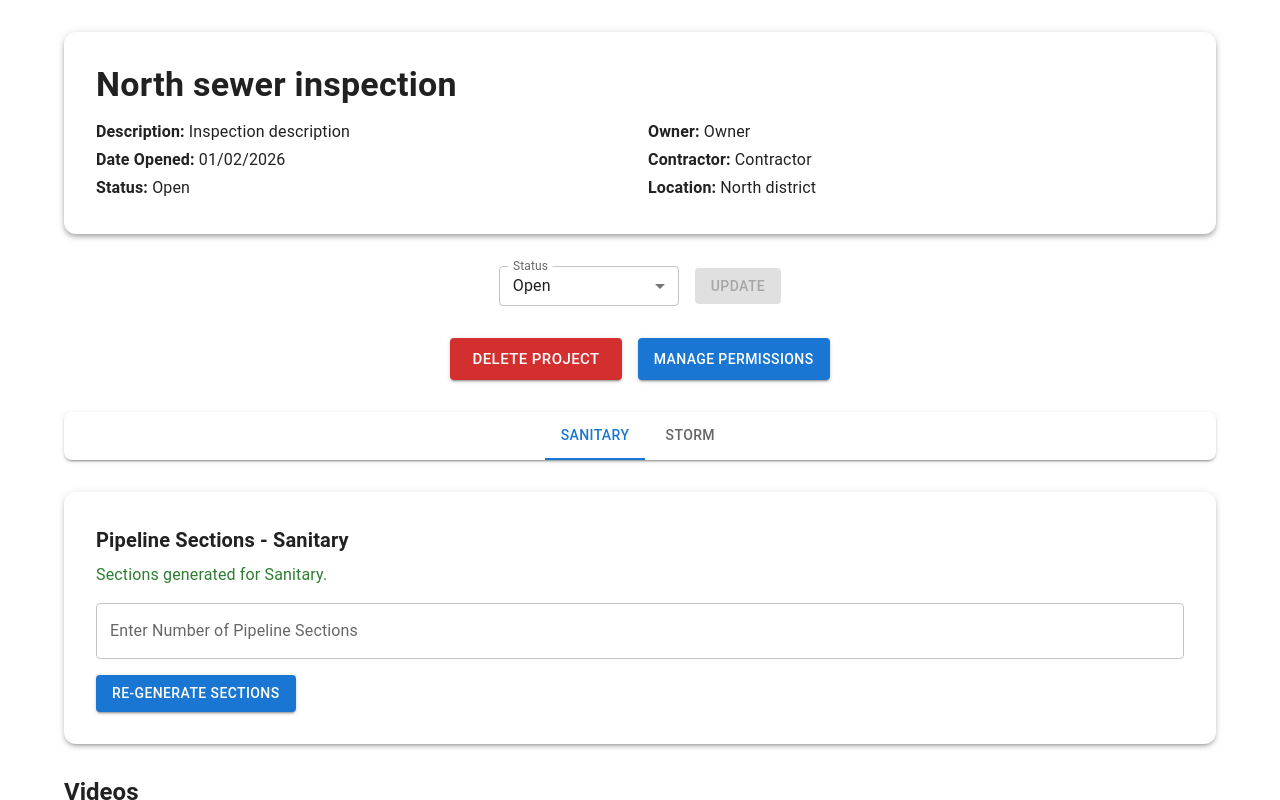
Test: toggles existing permissions and removes the selected member without adding a grant UI
Check: the heading "North sewer inspection" is shown, box x1=96 y1=64 x2=457 y2=104
Check: the button "Delete Project" is enabled, box x1=450 y1=338 x2=622 y2=380
Click the button "Manage Permissions" at (734, 359), box x1=638 y1=338 x2=830 y2=380
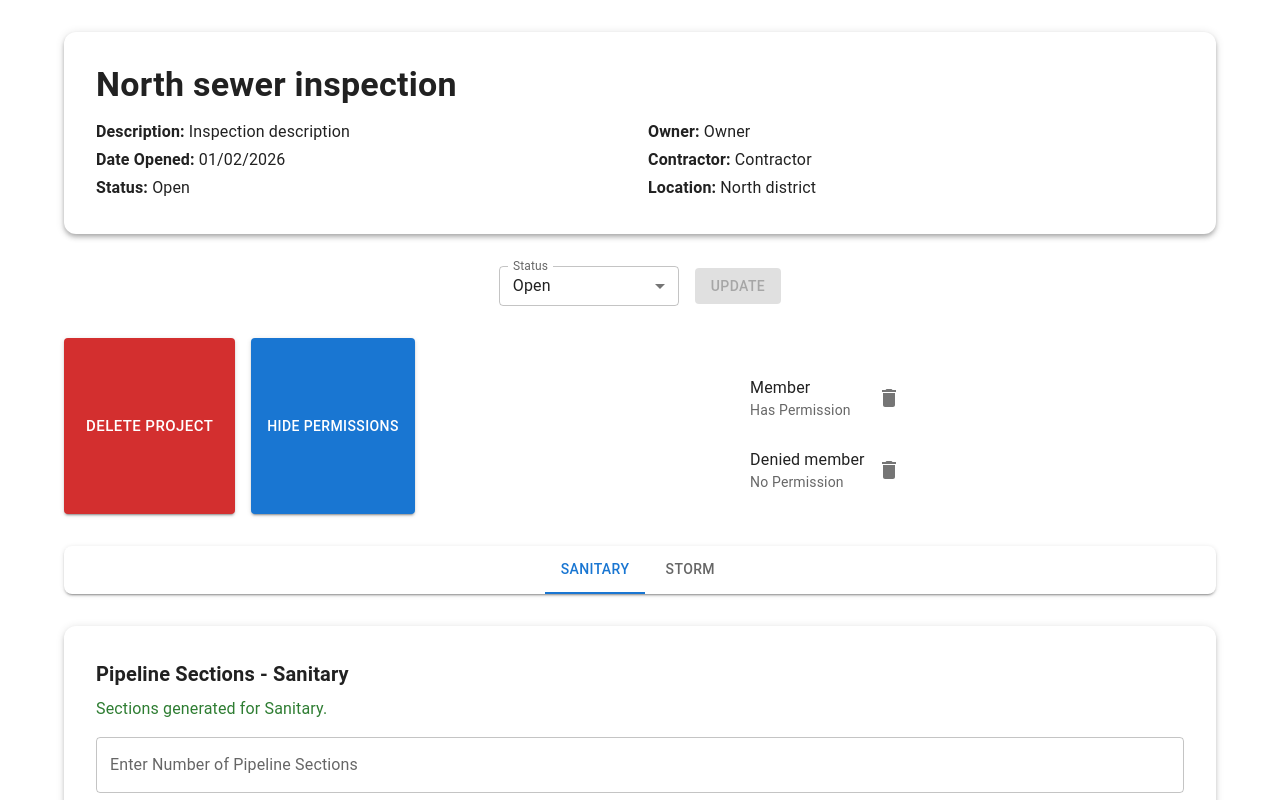
Check: the text "Member" is shown, box x1=750 y1=378 x2=810 y2=397
Check: the text "No Permission" is shown, box x1=750 y1=474 x2=844 y2=490
Click the button named "remove" next to "Has Permission" at (889, 398), box x1=869 y1=378 x2=909 y2=418
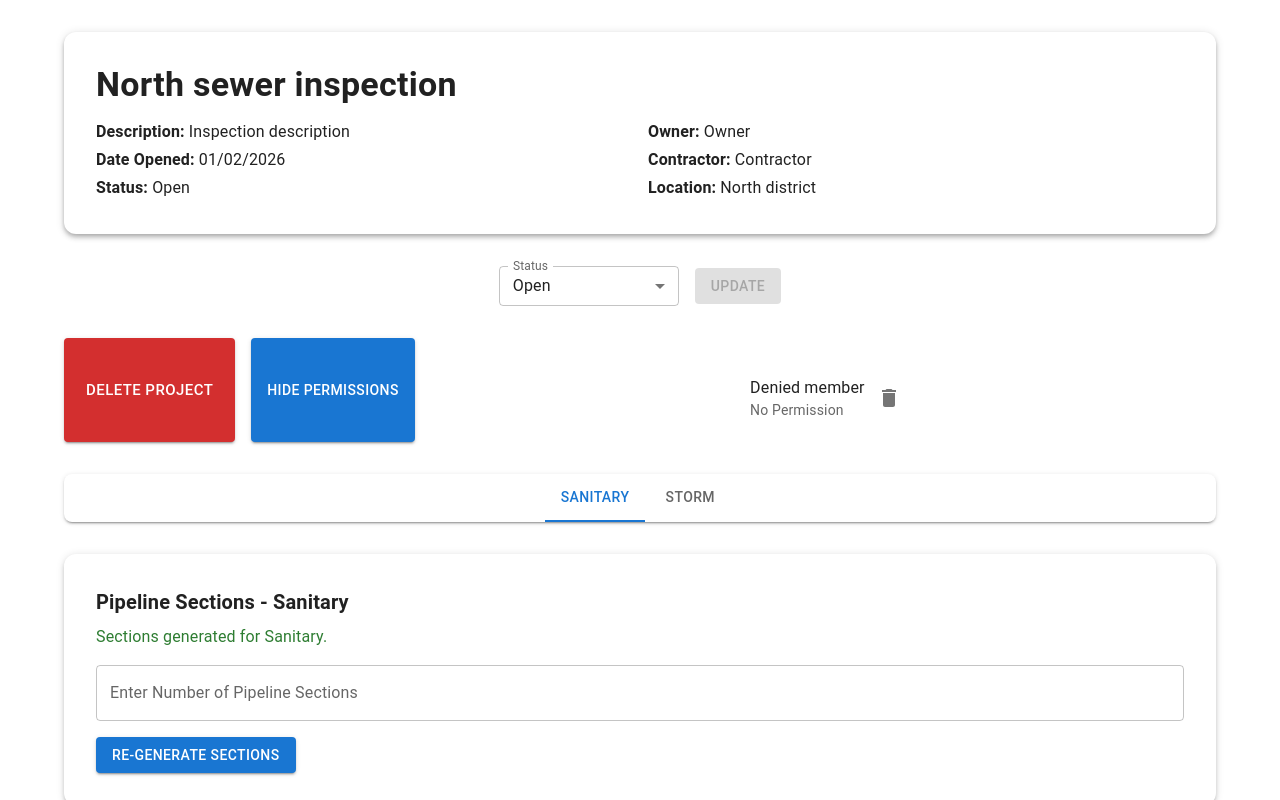
Click the button "Hide Permissions" at (333, 390), box x1=251 y1=338 x2=415 y2=442
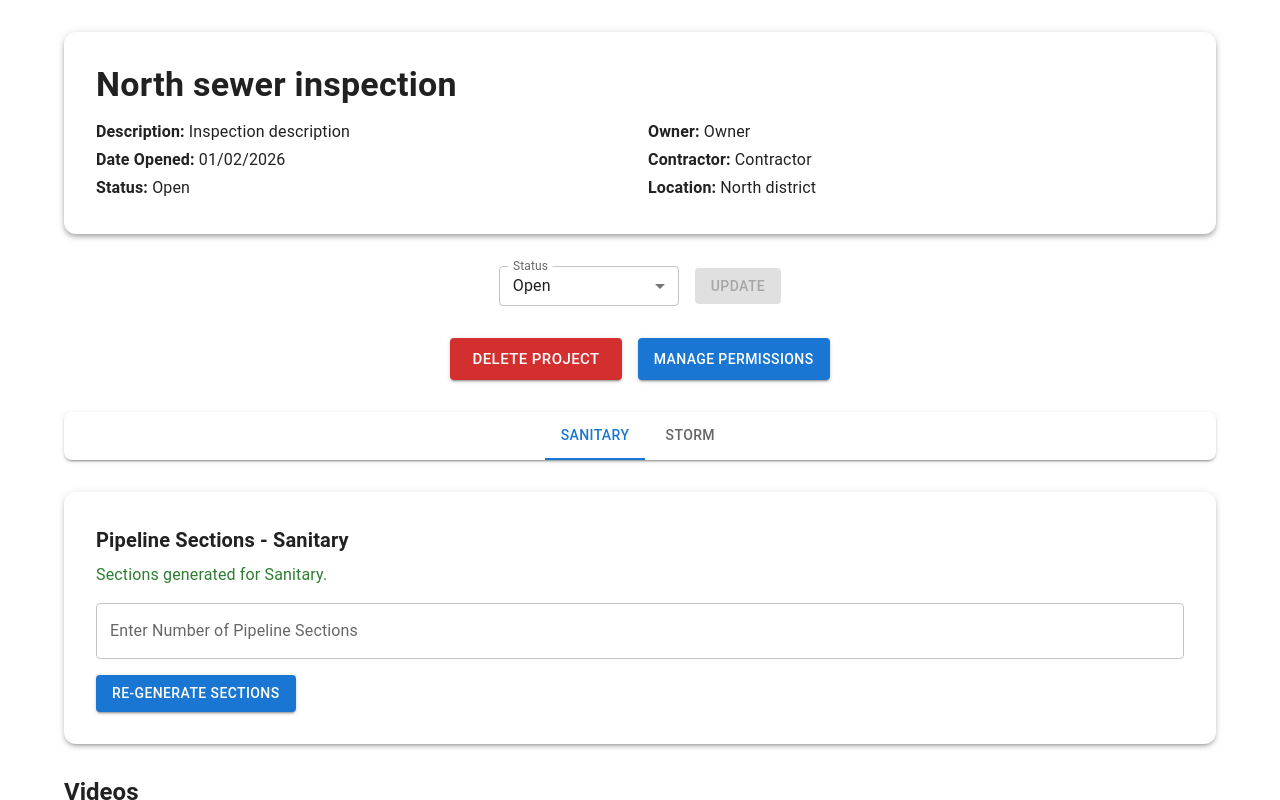
Check: the text "Denied member" is gone
